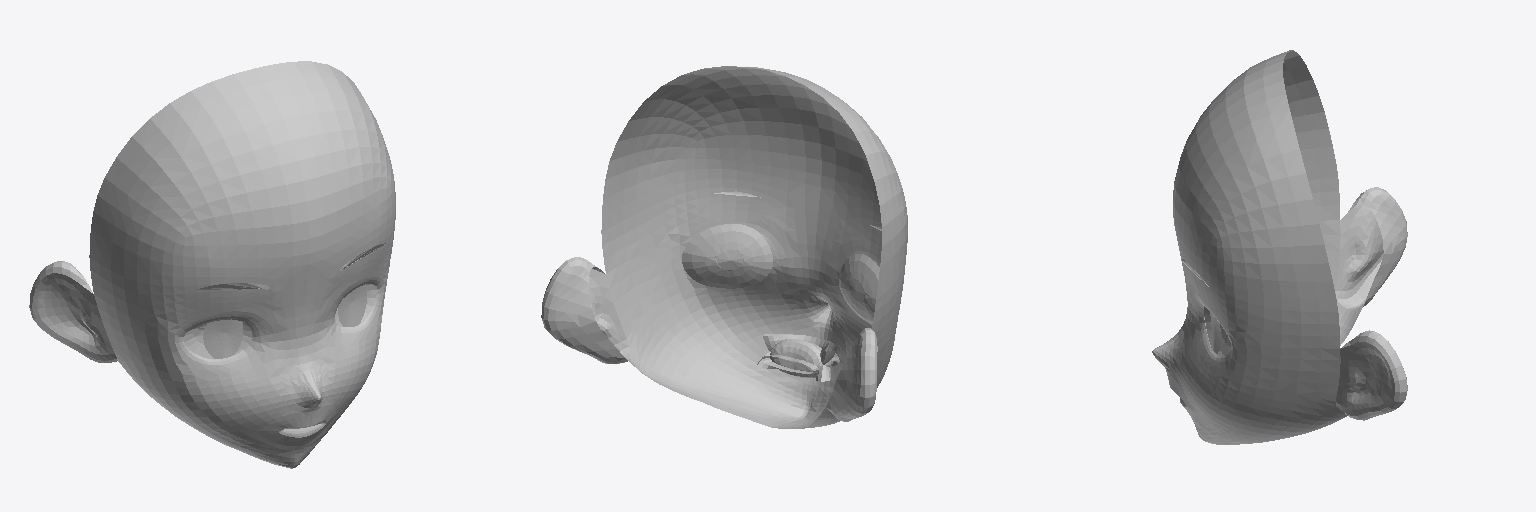
The model's file is mouthFrownLeft.obj.
3 renders of one model, left to right at view 1: azimuth 30°, elevation 25°; view 2: azimuth 150°, elevation 25°; view 3: azimuth 270°, elevation 25°, orthographic.
Visible parts, largest first — view 1: Face; view 2: Face; view 3: Face.
Part boxes in pixels (bbox=[...]): Face: bbox=[29, 61, 395, 468]; Face: bbox=[541, 66, 907, 428]; Face: bbox=[1152, 50, 1407, 444].
Size of the model in its own units: 0.2176 by 0.2333 by 0.1449.